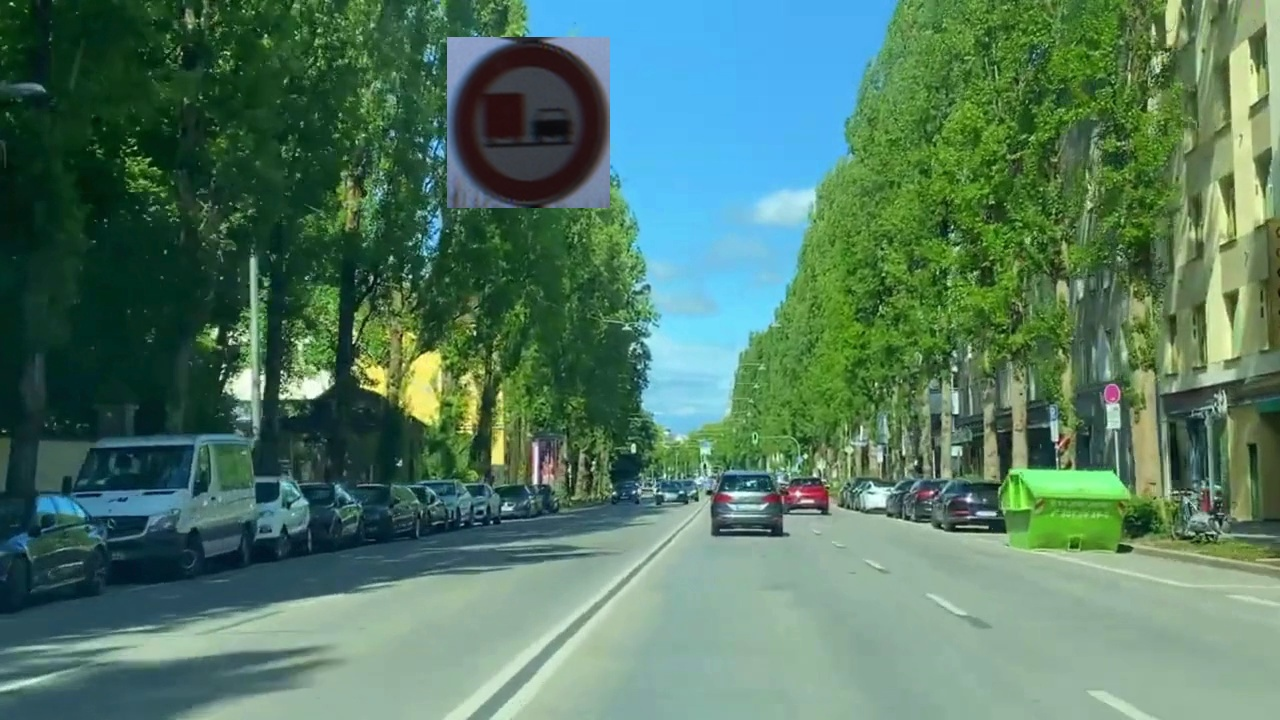No pass >3.5t: (447, 37, 610, 208)
